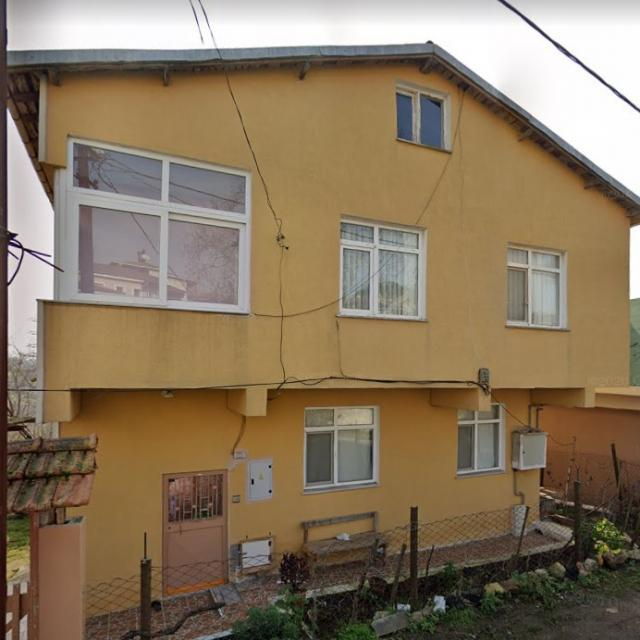Building: (6, 43, 640, 619)
